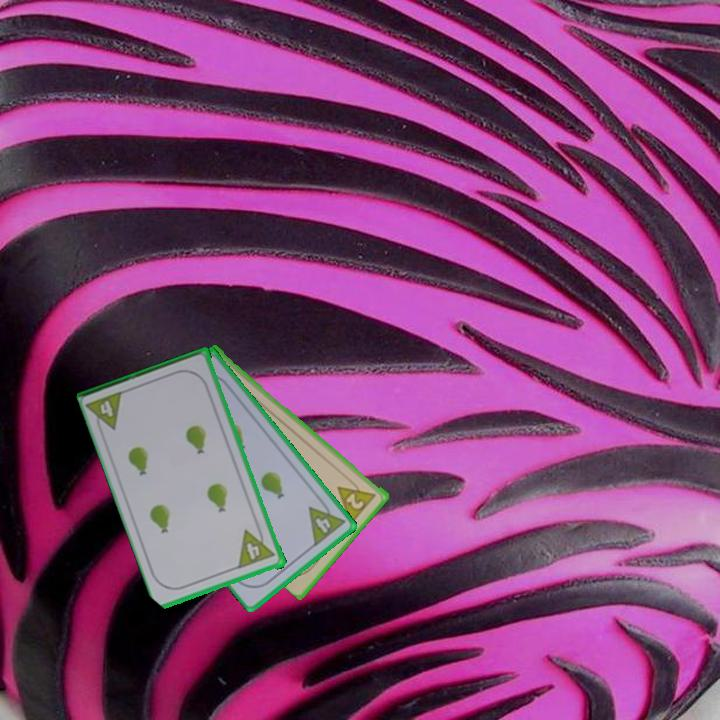2p: (334, 474, 379, 526)
4p: (305, 495, 348, 549), (235, 528, 266, 569), (97, 397, 117, 420)
